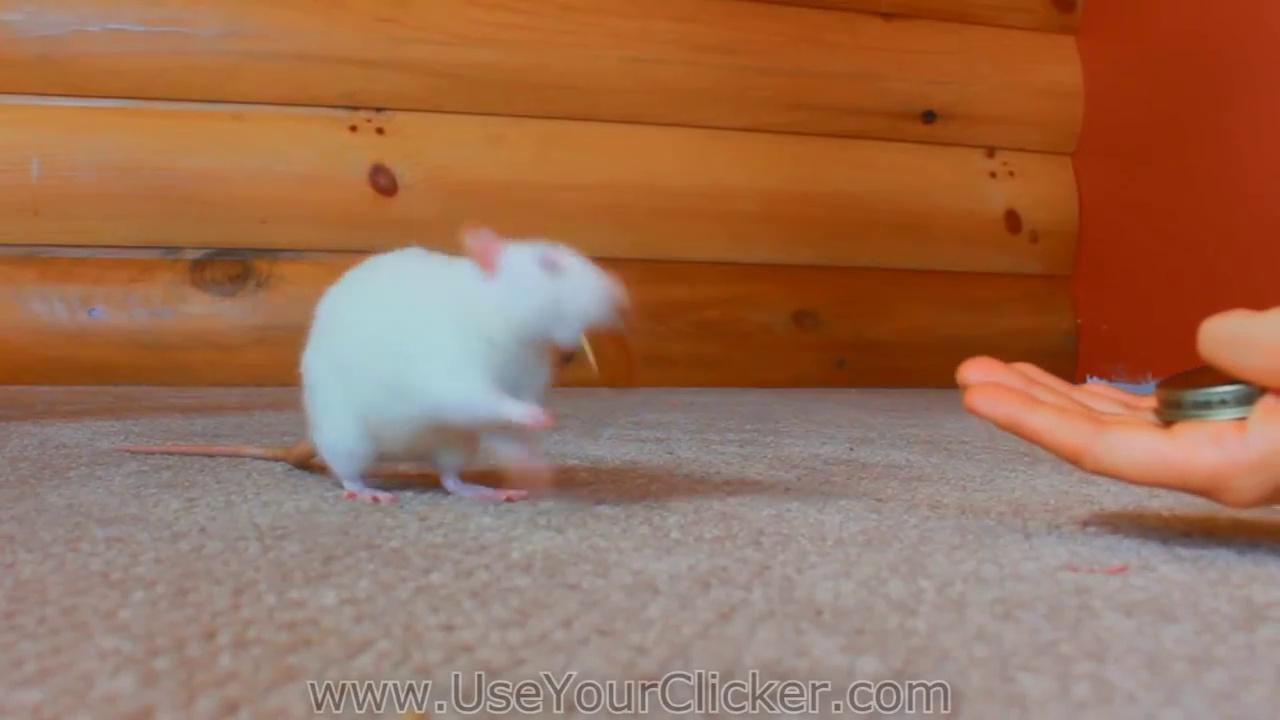rat: (121, 220, 632, 505)
